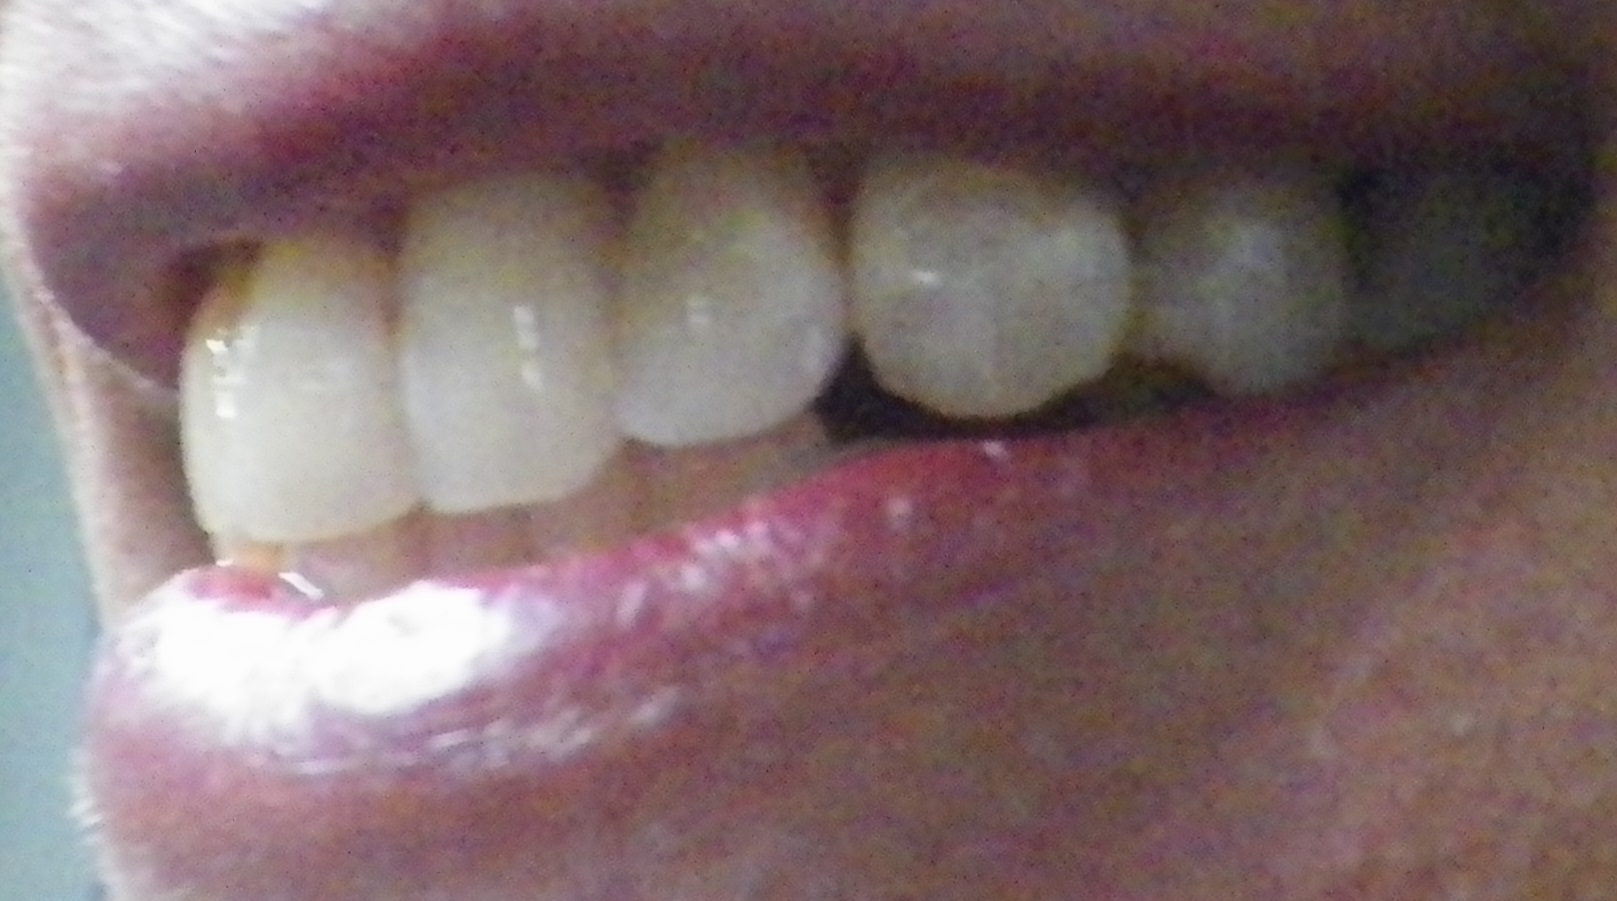boca: (176, 139, 1487, 568)
